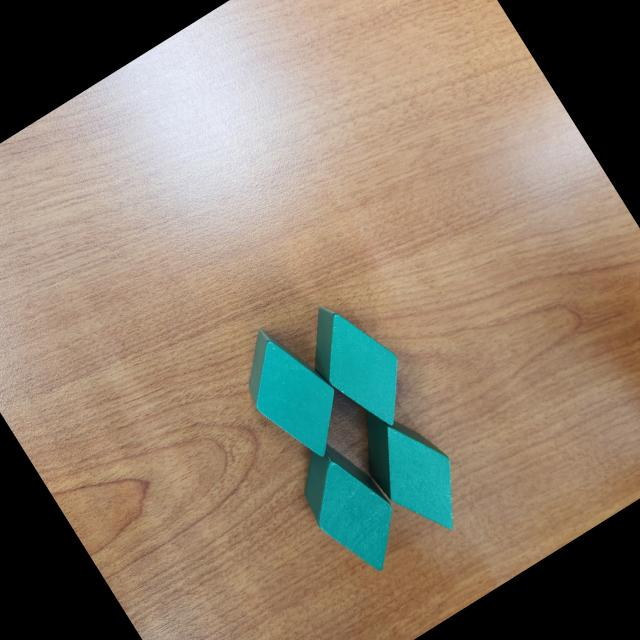green: (340, 386, 481, 550), (222, 312, 362, 474), (288, 286, 426, 443), (282, 431, 418, 586)
